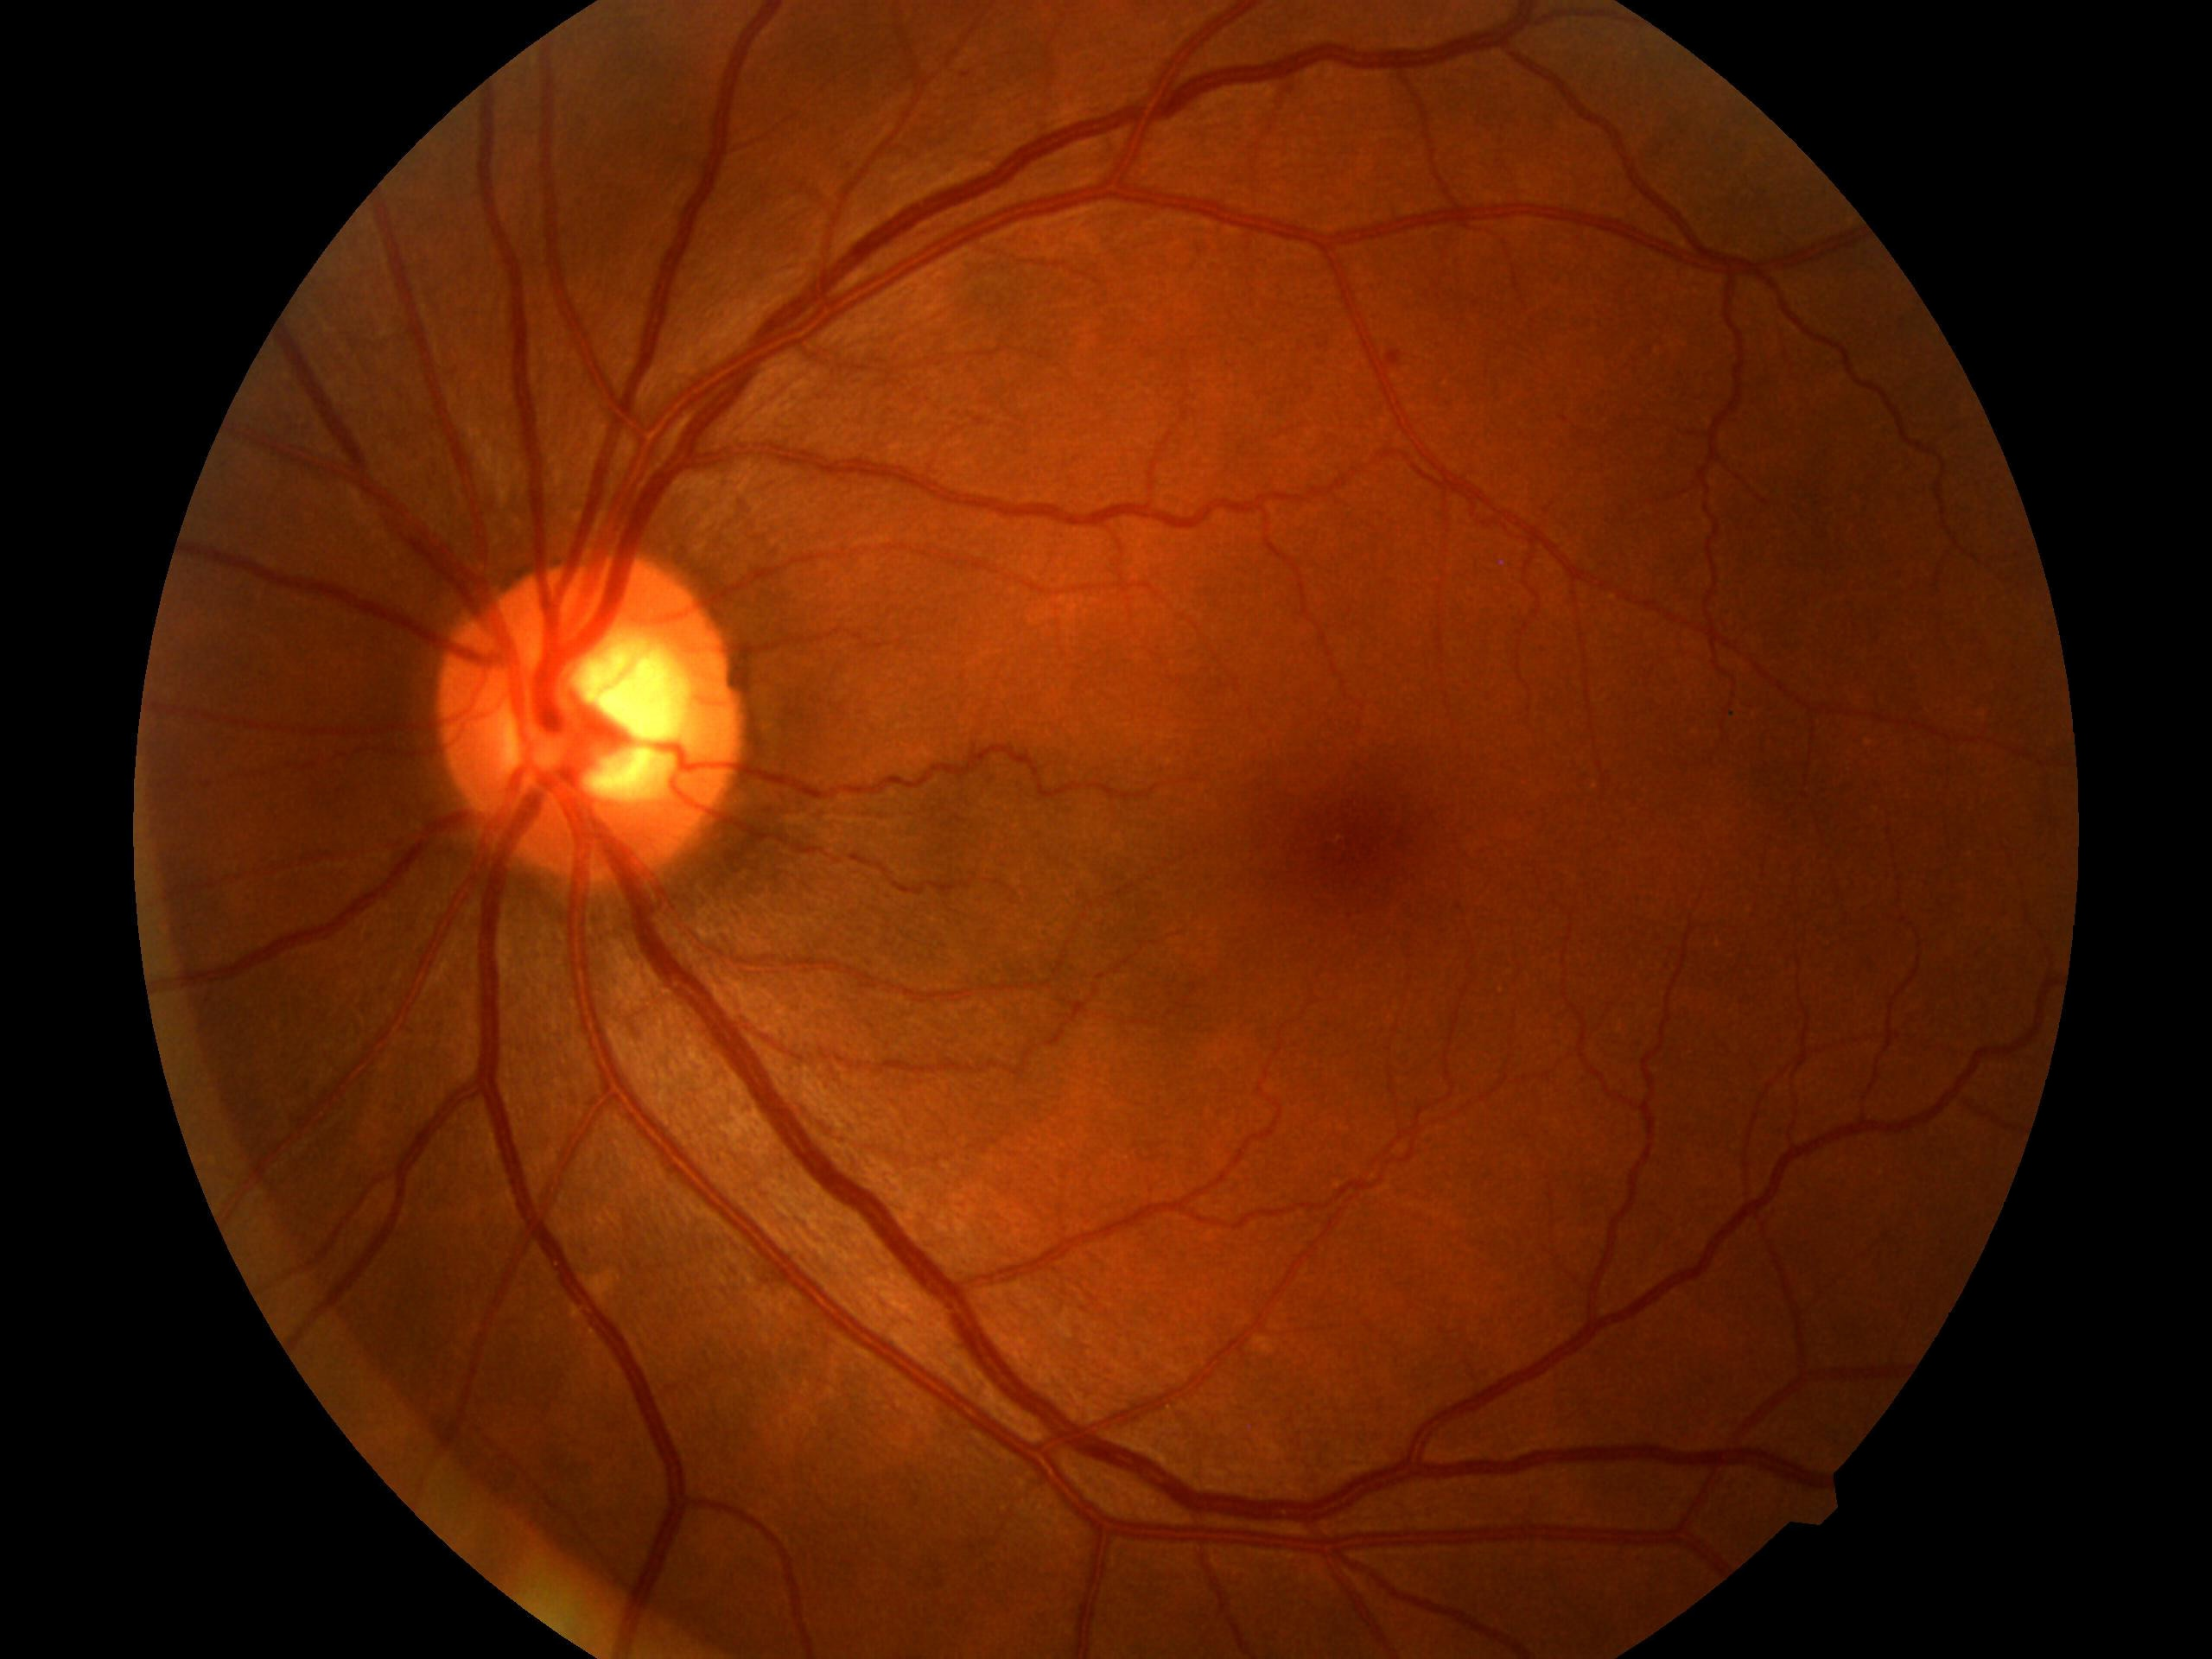Fovea: (1249, 774, 1475, 955)
OD: (418, 540, 758, 911)
